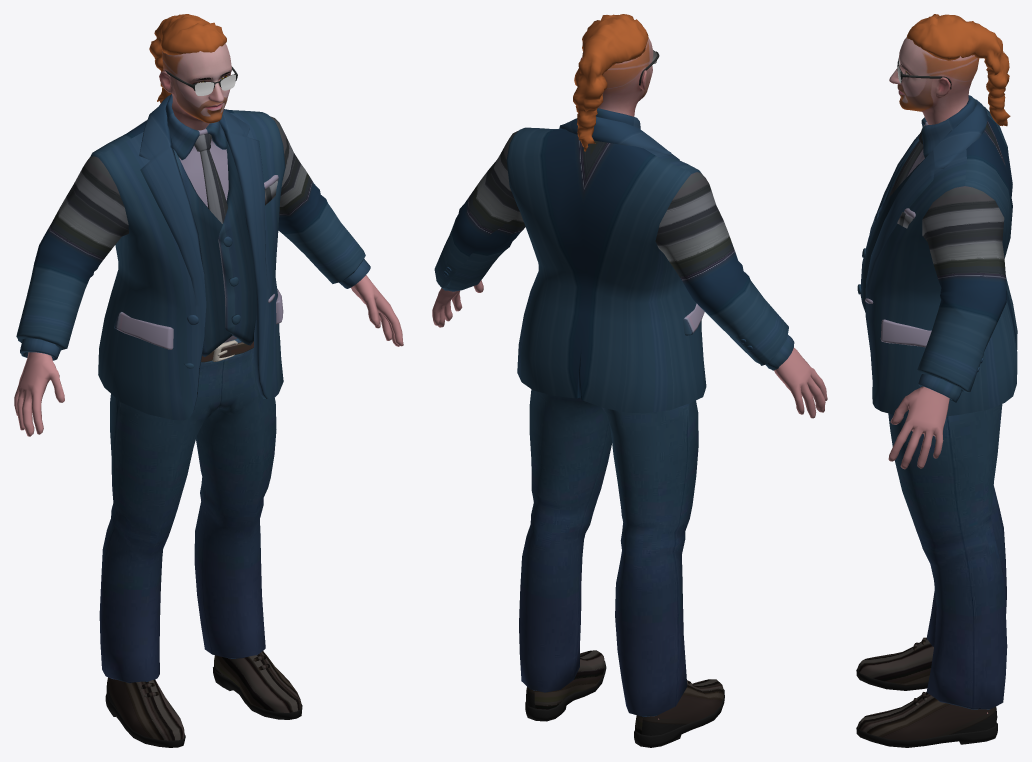
Rendered from JudgeFraser.fbx.
3 views of the same model, side by side, from view 1: azimuth 30°, elevation 25°; view 2: azimuth 150°, elevation 25°; view 3: azimuth 270°, elevation 25° (orthographic).
Visible parts, largest first — view 1: Wolf3D_Outfit_Top, Wolf3D_Outfit_Bottom, Wolf3D_Outfit_Footwear, Wolf3D_Head, Wolf3D_Body, Wolf3D_Hair; view 2: Wolf3D_Outfit_Top, Wolf3D_Outfit_Bottom, Wolf3D_Outfit_Footwear, Wolf3D_Hair, Wolf3D_Body, Wolf3D_Head; view 3: Wolf3D_Outfit_Top, Wolf3D_Outfit_Bottom, Wolf3D_Outfit_Footwear, Wolf3D_Head, Wolf3D_Hair, Wolf3D_Body.
Boxes of the visible parts, x1=… form: Wolf3D_Outfit_Top: x1=16, y1=94, x2=370, y2=420; Wolf3D_Outfit_Bottom: x1=99, y1=338, x2=276, y2=683; Wolf3D_Outfit_Footwear: x1=105, y1=651, x2=302, y2=747; Wolf3D_Head: x1=159, y1=43, x2=231, y2=130; Wolf3D_Body: x1=14, y1=275, x2=403, y2=436; Wolf3D_Hair: x1=149, y1=14, x2=226, y2=103; Wolf3D_Outfit_Top: x1=434, y1=108, x2=794, y2=412; Wolf3D_Outfit_Bottom: x1=519, y1=389, x2=698, y2=716; Wolf3D_Outfit_Footwear: x1=525, y1=650, x2=724, y2=747; Wolf3D_Hair: x1=573, y1=14, x2=648, y2=151; Wolf3D_Body: x1=432, y1=280, x2=827, y2=719; Wolf3D_Head: x1=580, y1=38, x2=653, y2=116; Wolf3D_Outfit_Top: x1=857, y1=95, x2=1017, y2=416; Wolf3D_Outfit_Bottom: x1=888, y1=404, x2=1007, y2=709; Wolf3D_Outfit_Footwear: x1=856, y1=637, x2=997, y2=747; Wolf3D_Head: x1=889, y1=37, x2=979, y2=124; Wolf3D_Hair: x1=907, y1=14, x2=1010, y2=126; Wolf3D_Body: x1=888, y1=386, x2=987, y2=713.
Size of the model in its own units: 1.06 by 1.86 by 0.3907.
9 materials, 9 textured.
